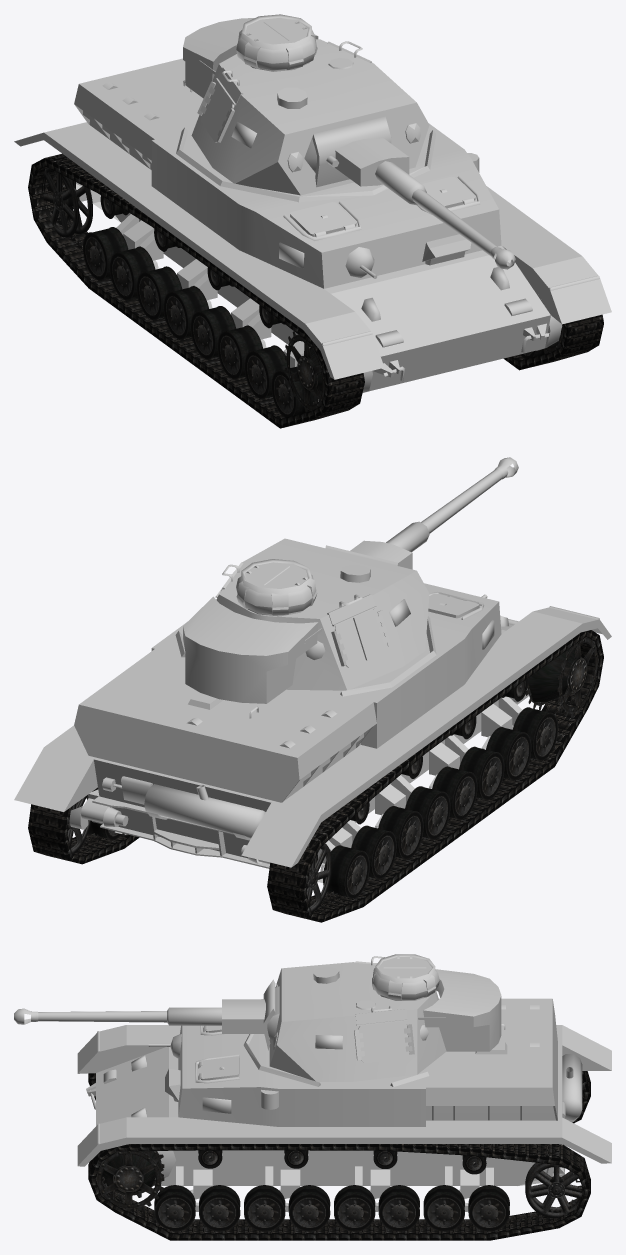
Rendered from P4F2_model_track.FBX.
3 renders of one model, top to bottom at view 1: azimuth 30°, elevation 25°; view 2: azimuth 150°, elevation 25°; view 3: azimuth 270°, elevation 25°, orthographic. The views are drawn at different scales.
Visible parts, largest first — view 1: body, Righttrack, turret, cannon, Lefttrack; view 2: body, turret, Righttrack, Lefttrack, cannon; view 3: body, Lefttrack, turret, cannon, Righttrack.
Part boxes in pixels (<box>): body: <box>14,58,611,401</box>; Righttrack: <box>28,153,364,428</box>; turret: <box>183,14,429,195</box>; cannon: <box>312,116,515,269</box>; Lefttrack: <box>503,314,603,370</box>; body: <box>14,583,611,882</box>; turret: <box>183,538,429,703</box>; Righttrack: <box>267,630,603,922</box>; Lefttrack: <box>28,787,139,864</box>; cannon: <box>325,457,518,569</box>; body: <box>77,998,611,1211</box>; Lefttrack: <box>88,1144,590,1240</box>; turret: <box>267,954,501,1081</box>; cannon: <box>14,979,275,1050</box>; Righttrack: <box>88,1071,590,1123</box>.
Size of the model in its own units: 2.85 by 2.58 by 6.39.
